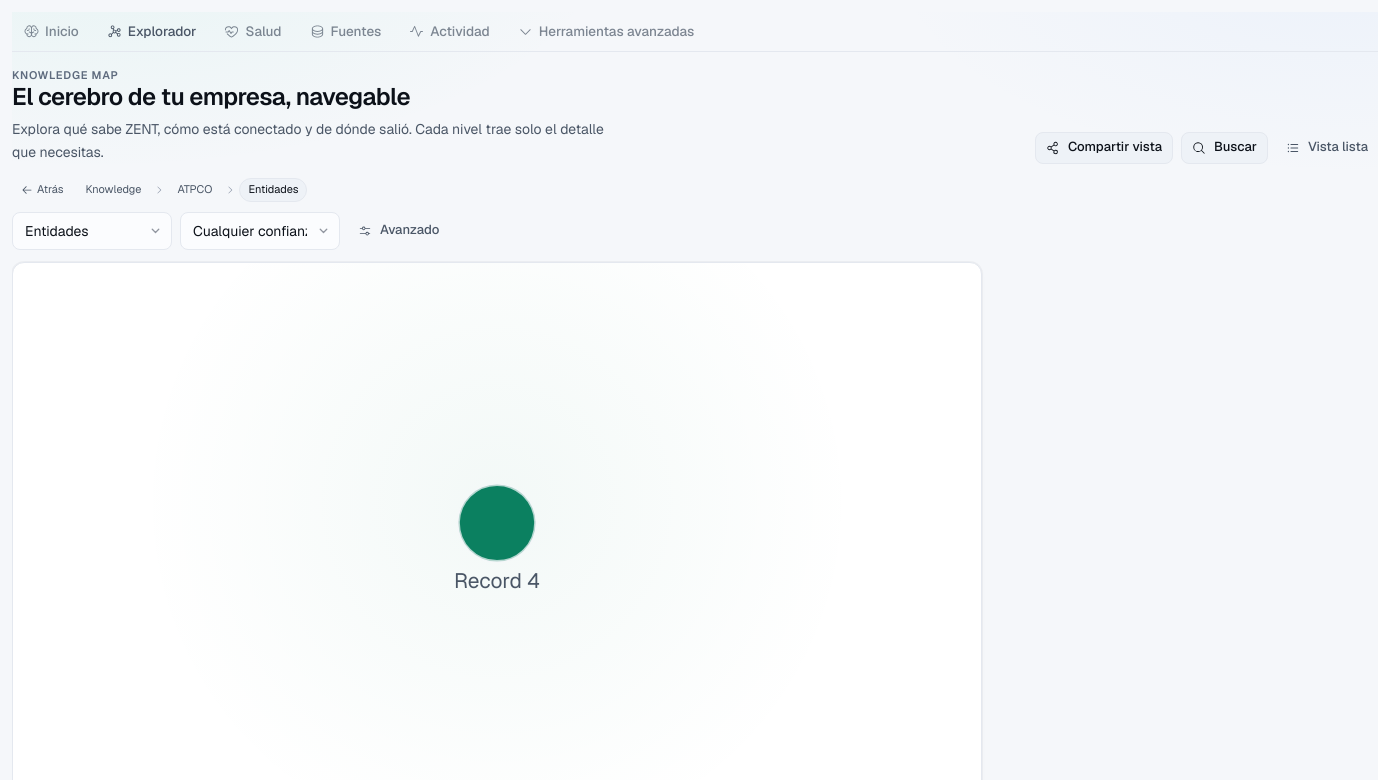
Test case: KnowledgeMapPage › en nivel objetos dibuja el grafo real y ofrece filtros avanzados
This screenshot has width=1378, height=780.
Expected: the button "Record 4, 5 conexiones" is shown, [454, 484, 540, 594]
Click the button with test id "map-advanced": [399, 231] box [348, 215, 450, 247]
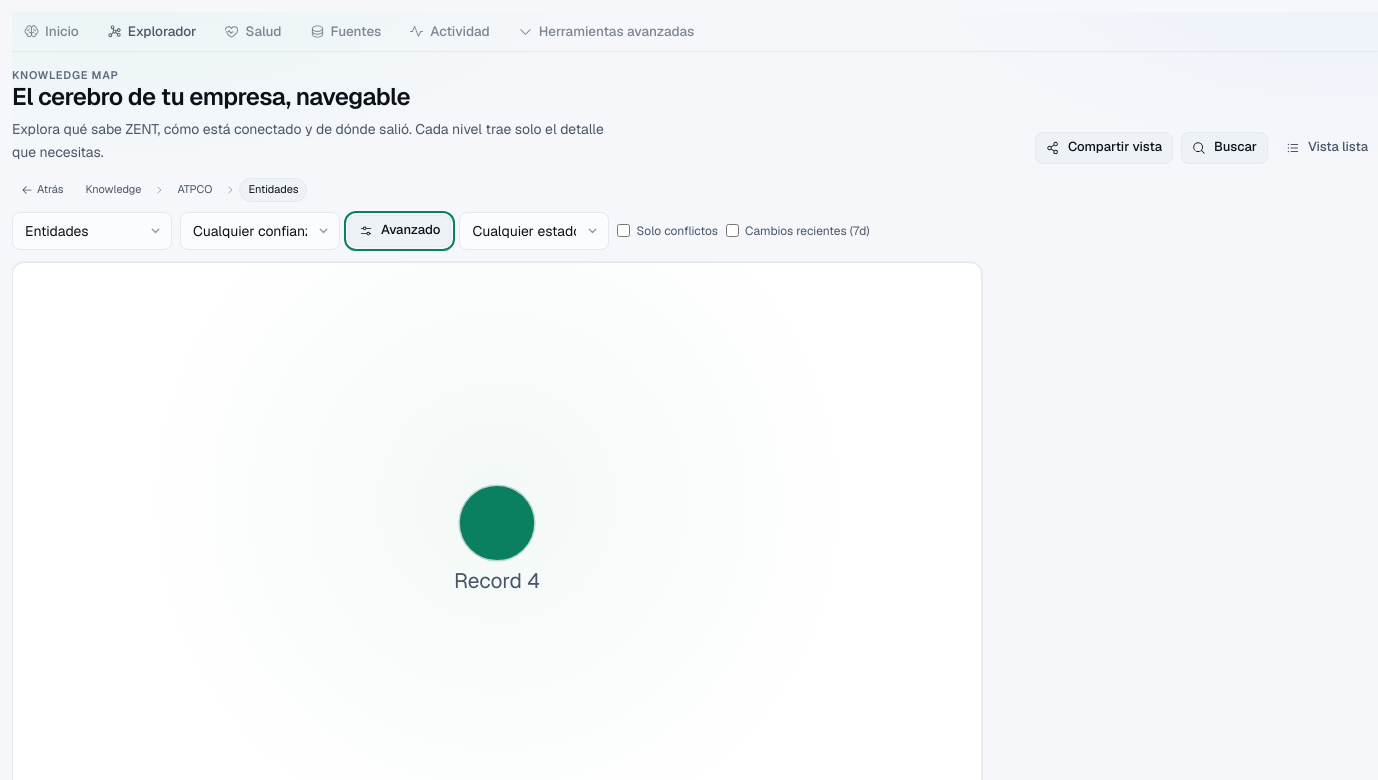
Now the checkbox labelled "Solo conflictos" is shown, box [618, 224, 630, 237]
Now the checkbox labelled "Cambios recientes (7d)" is shown, box [726, 224, 739, 237]
